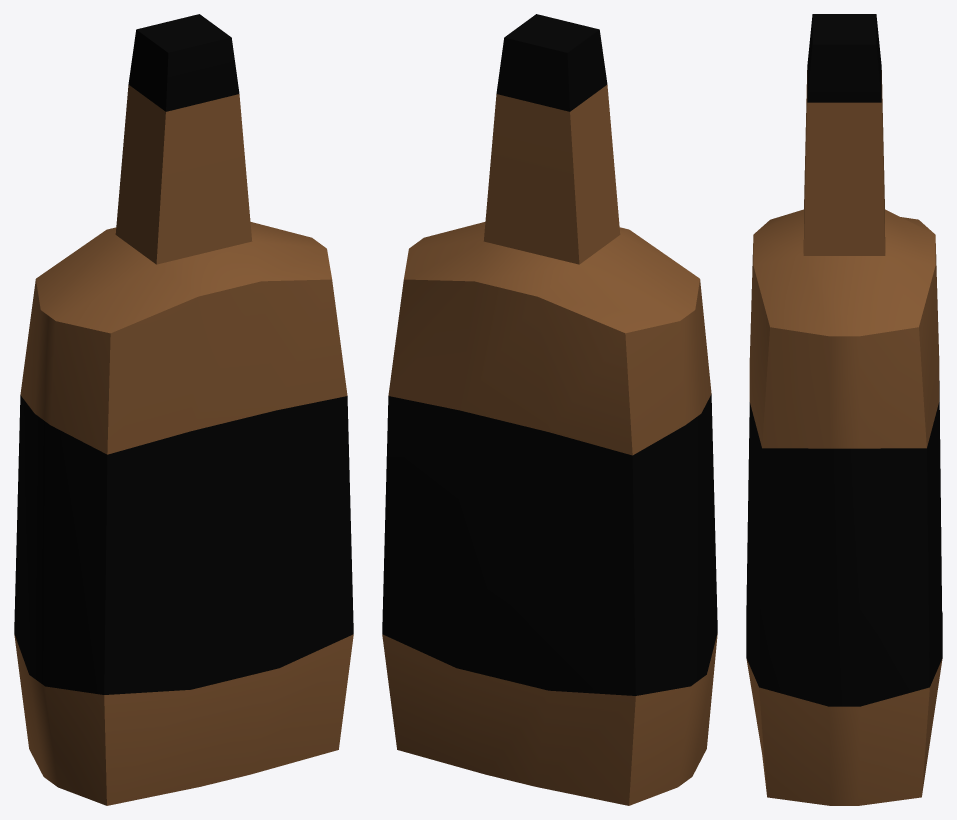
Rendered from whiskey bottle.fbx.
3 renders of one model, left to right at view 1: azimuth 30°, elevation 25°; view 2: azimuth 150°, elevation 25°; view 3: azimuth 270°, elevation 25°, orthographic.
Visible parts, largest first — view 1: bottle; view 2: bottle; view 3: bottle.
Boxes of the visible parts, x1,y1,x2,y2 form: bottle: [14, 14, 353, 805]; bottle: [382, 14, 717, 805]; bottle: [746, 14, 942, 805].
Bounding box in the file's own units: 2.8 × 6.55 × 1.63.
